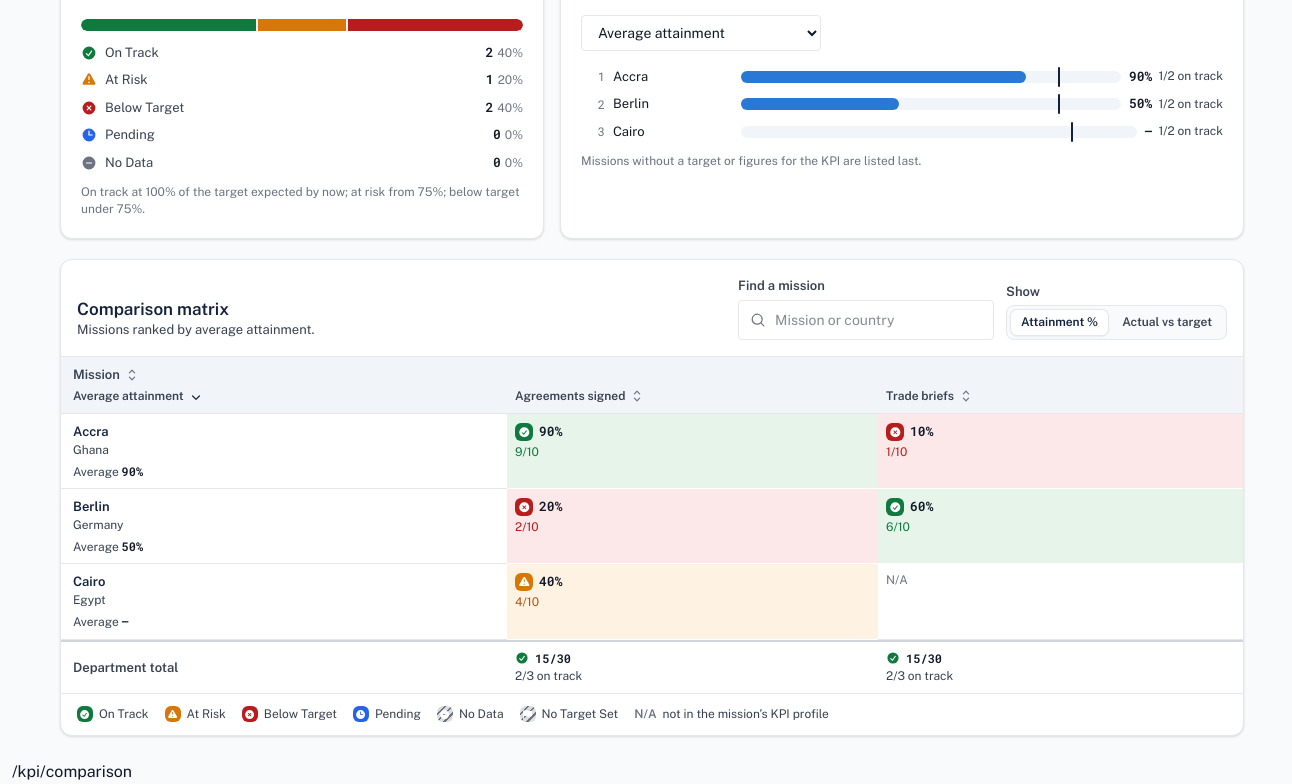
Test: KpiComparisonPage › TC-FR-KPI-013-AC1: reorders the missions when a KPI column is chosen, and reverses on a second click
(page scrolled)
Check: the row with test id "kpi-matrix-row-mission-accra" is shown, box x1=61 y1=414 x2=1243 y2=489
Step 1. Click the button "Trade briefs" → (930, 396), box x1=886 y1=388 x2=974 y2=404
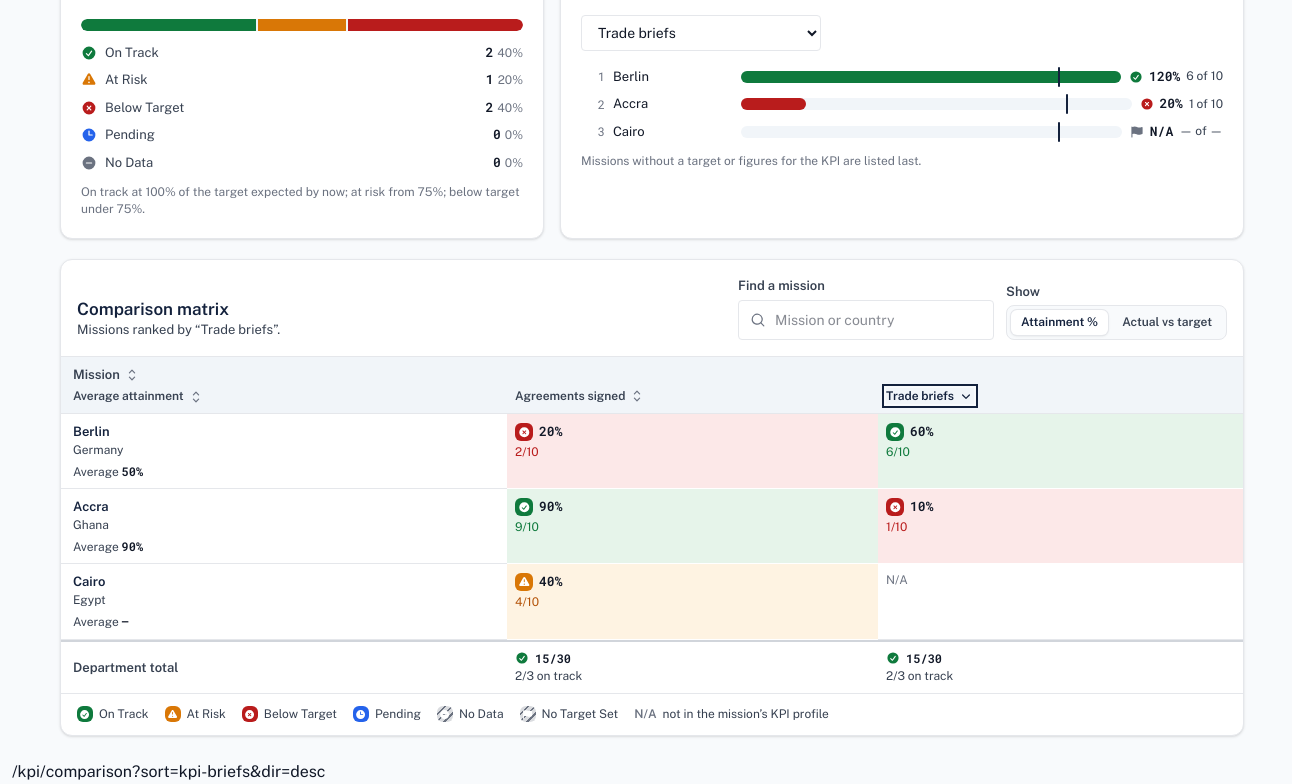
Check: the text with test id "location" shows "sort=kpi-briefs", box x1=12 y1=762 x2=326 y2=781
Check: the text "Missions ranked by “Trade briefs”." is shown, box x1=77 y1=320 x2=280 y2=340
Step 2. Click the button "Trade briefs" → (930, 396), box x1=886 y1=388 x2=974 y2=404
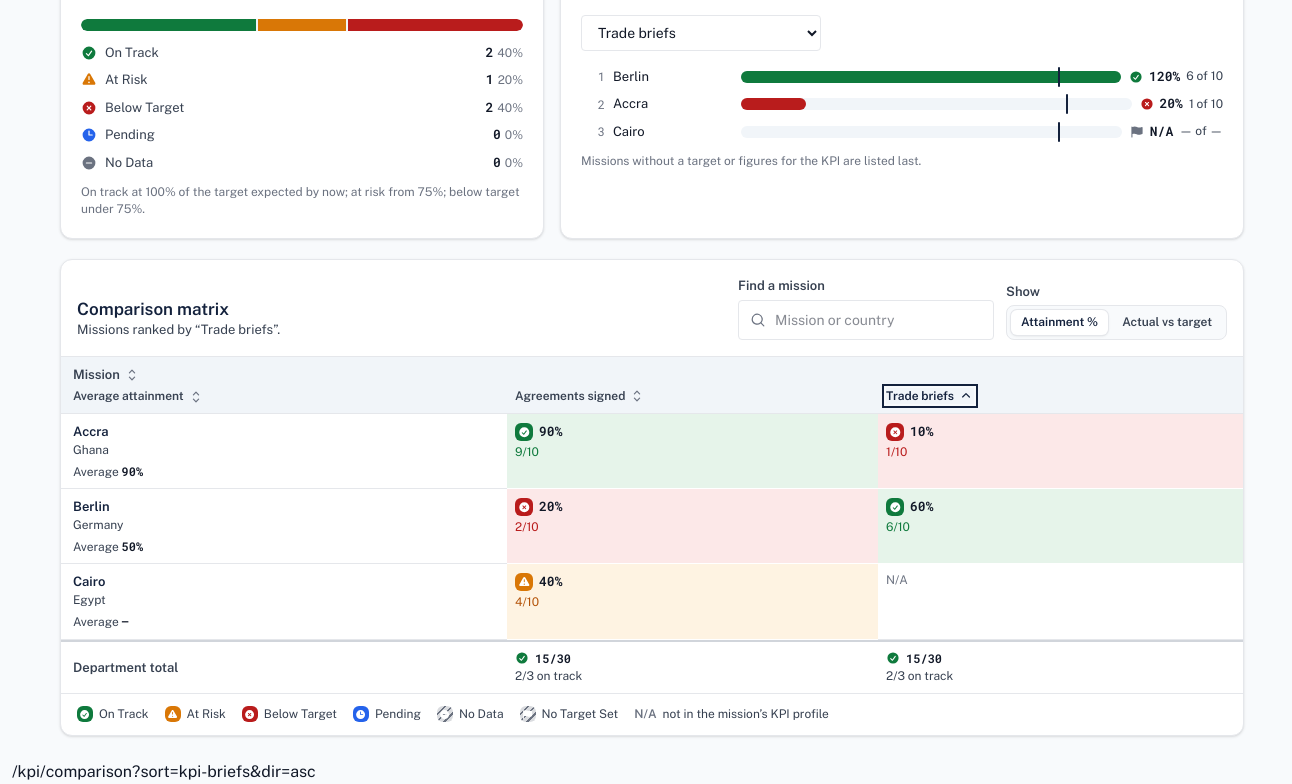
Check: the text with test id "location" shows "dir=asc", box x1=12 y1=762 x2=316 y2=781
